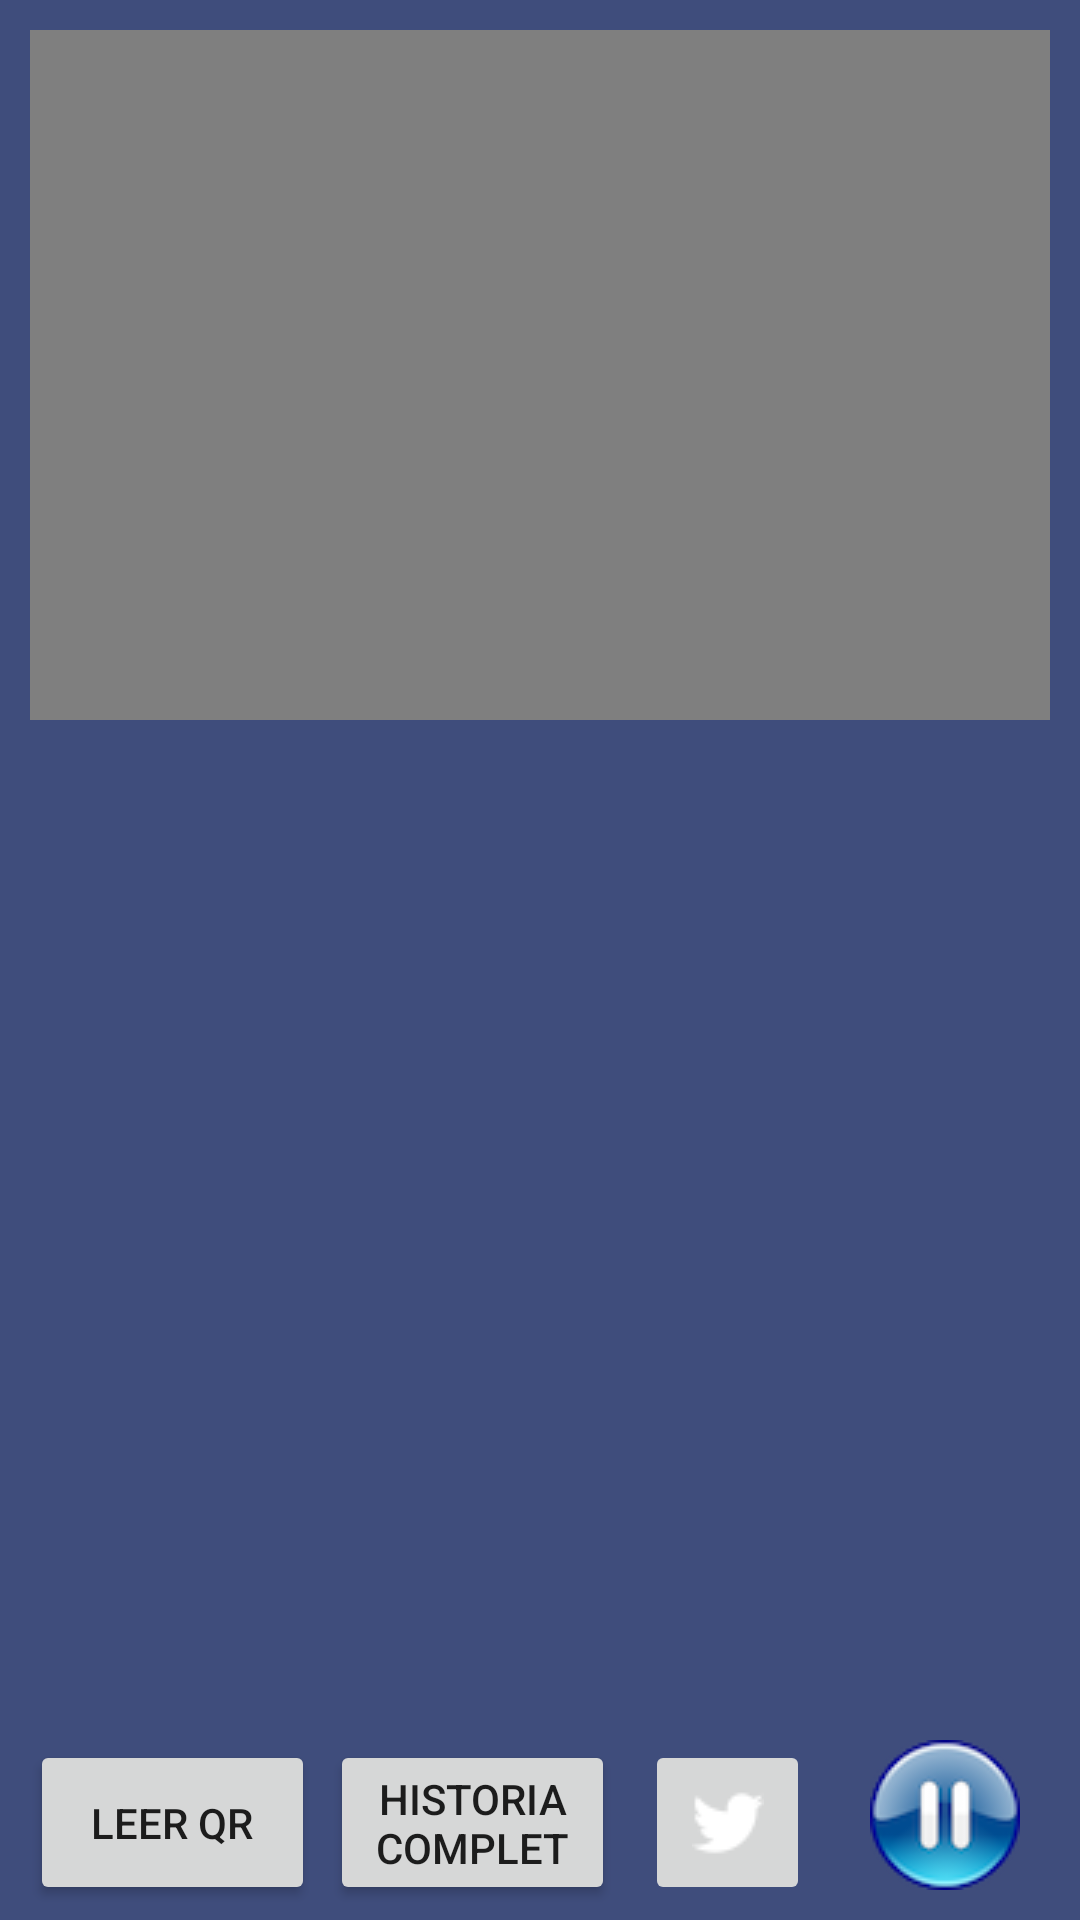

Screen size 1080px x 1920px. Icon name, then its center in pixels as (x,y):
pause: (945,1815)
